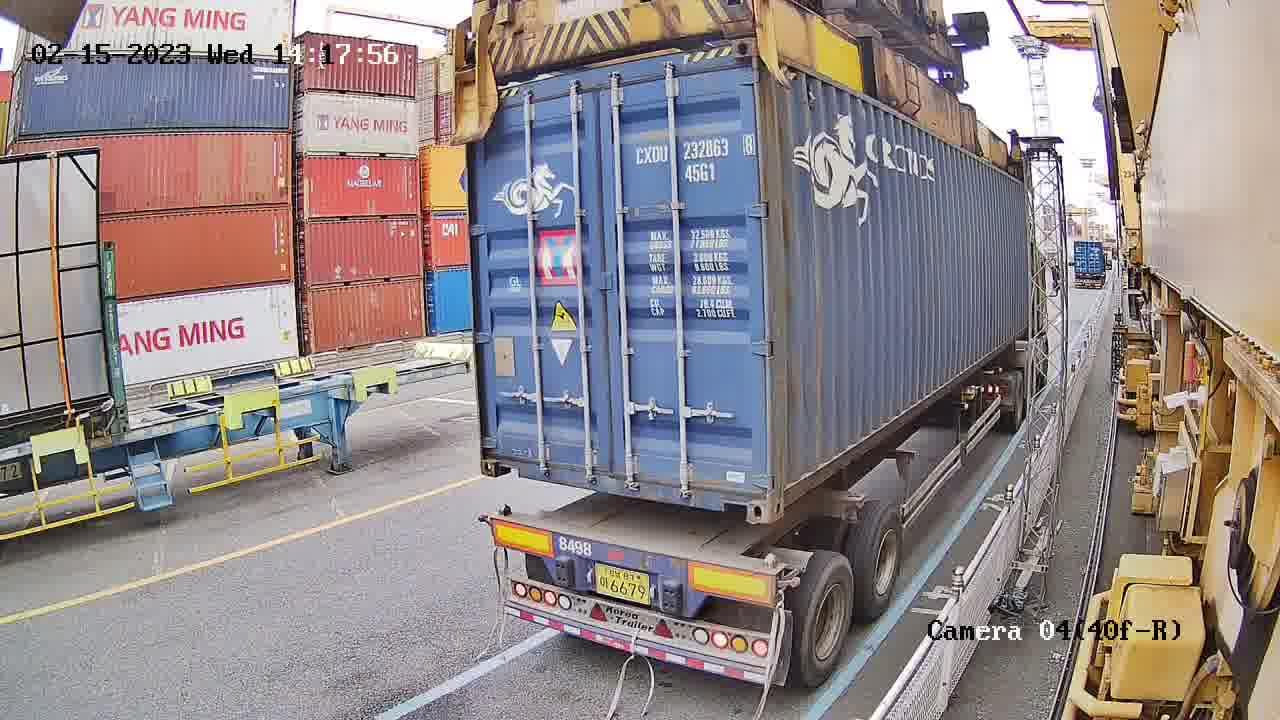Chassis: (489, 521, 775, 618)
Cone: (764, 552, 786, 608), (490, 504, 512, 521)
Hole_L: (769, 447, 805, 527), (480, 428, 531, 479)
Hole_R: (701, 458, 770, 527)
Tire: (797, 563, 854, 682), (856, 506, 903, 619)
